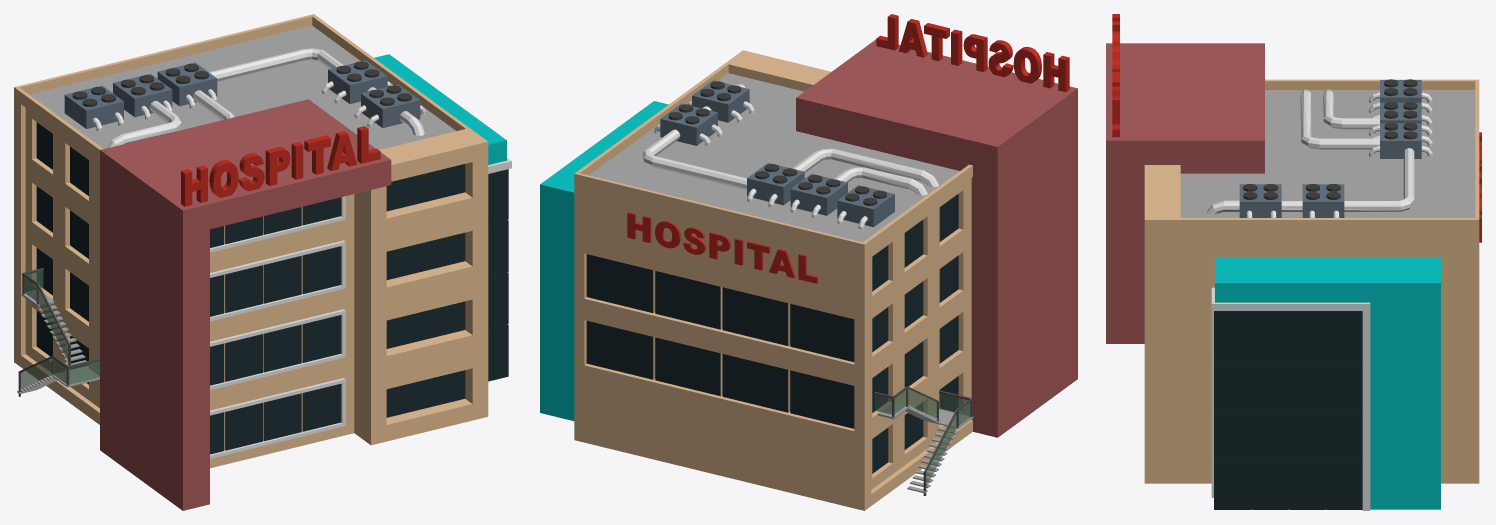
File: 04 Hospital.fbx
3 views of the same model, side by side, from view 1: azimuth 30°, elevation 25°; view 2: azimuth 150°, elevation 25°; view 3: azimuth 270°, elevation 25° (orthographic). The views are drawn at different scales.
Parts seen in each view (by area): view 1: Hospital; view 2: Hospital; view 3: Hospital.
Part boxes in pixels (bbox=[...]): Hospital: bbox=[14, 14, 511, 510]; Hospital: bbox=[540, 14, 1077, 510]; Hospital: bbox=[1106, 14, 1481, 510].
Bounding box in the file's own units: 368 × 305 × 322.
